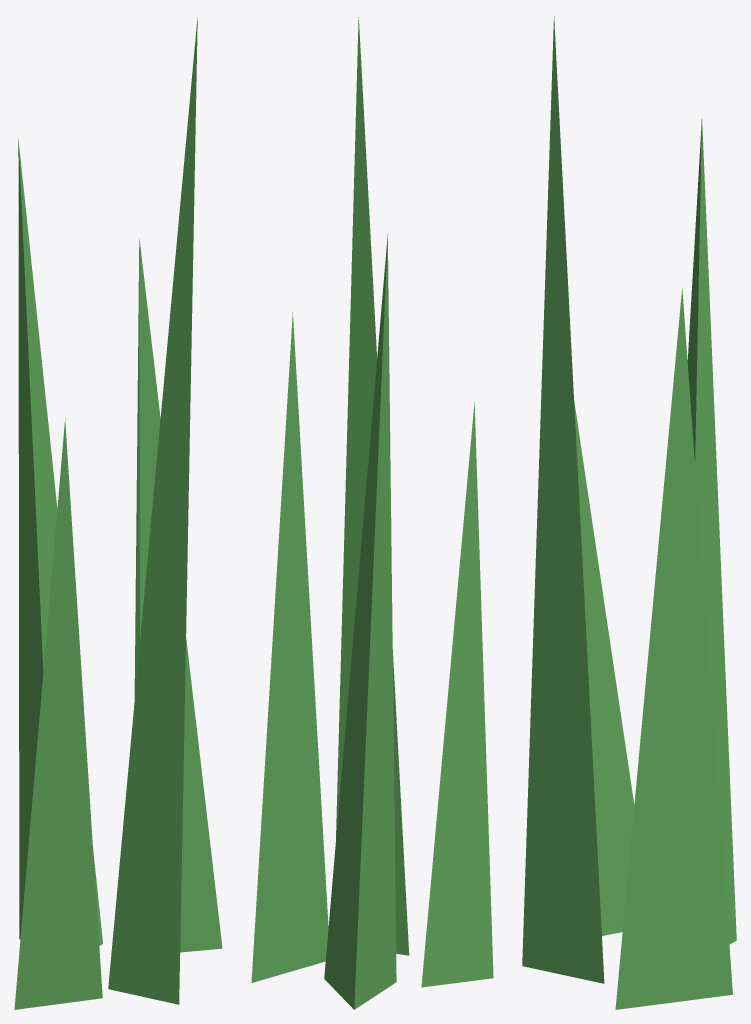
The model's file is Grass.fbx.
3 views of the same model, side by side, from view 1: azimuth 30°, elevation 25°; view 2: azimuth 150°, elevation 25°; view 3: azimuth 270°, elevation 25° (orthographic). The views are drawn at different scales.
Visible parts, largest first — view 1: Cone.001, Cone.003, Cone, Cone.002; view 2: Cone, Cone.002, Cone.003, Cone.001; view 3: Cone.002, Cone.001, Cone, Cone.003.
Part boxes in pixels (x1,y1,x2,y2): Cone.001: (108, 17, 197, 1004); Cone.003: (14, 419, 102, 1009); Cone: (18, 139, 102, 945); Cone.002: (134, 238, 222, 952); Cone: (324, 234, 396, 1009); Cone.002: (251, 312, 328, 982); Cone.003: (421, 402, 493, 987); Cone.001: (336, 17, 409, 955); Cone.002: (615, 288, 732, 1009); Cone.001: (522, 16, 604, 983); Cone: (687, 119, 736, 944); Cone.003: (574, 400, 634, 935).
Size of the model in its own units: 105 by 444 by 89.22.
